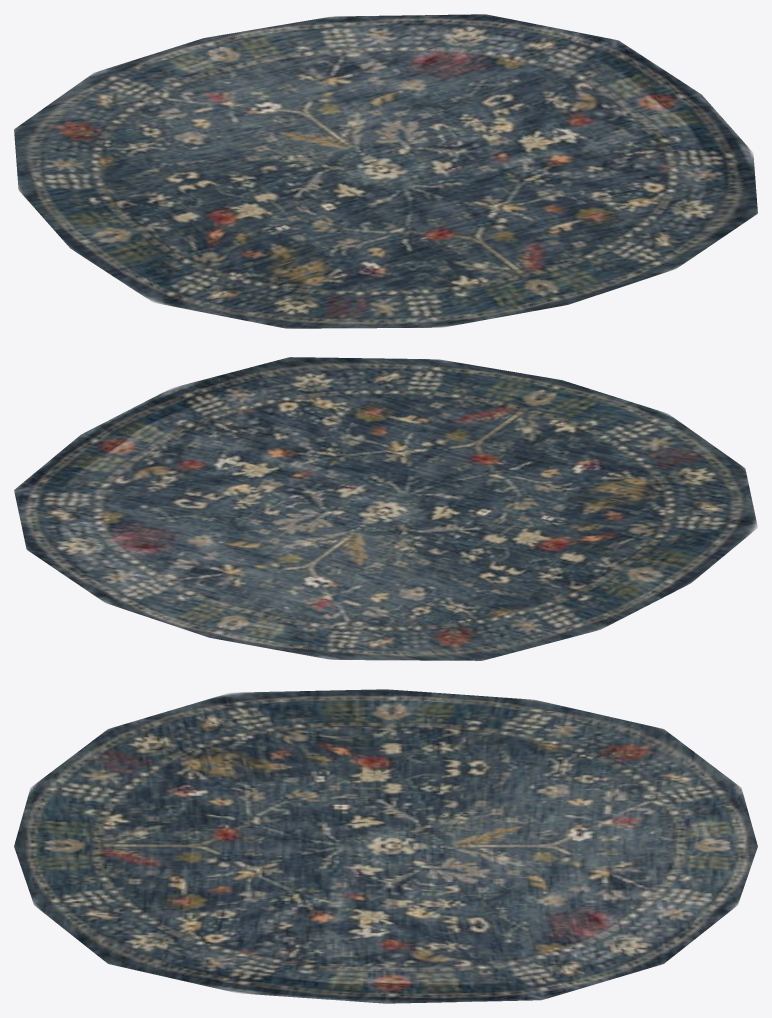
Rendered from floor_rug.fbx.
The picture shows the model from 3 angles, top to bottom: view 1: azimuth 30°, elevation 25°; view 2: azimuth 150°, elevation 25°; view 3: azimuth 270°, elevation 25°; orthographic projection. The views are drawn at different scales.
Visible parts, largest first — view 1: Rug; view 2: Rug; view 3: Rug.
Boxes of the visible parts, x1=… form: Rug: x1=14, y1=14, x2=757, y2=328; Rug: x1=14, y1=357, x2=757, y2=660; Rug: x1=14, y1=689, x2=757, y2=1003.
Bounding box in the file's own units: 625 × 0.000102 × 625.
